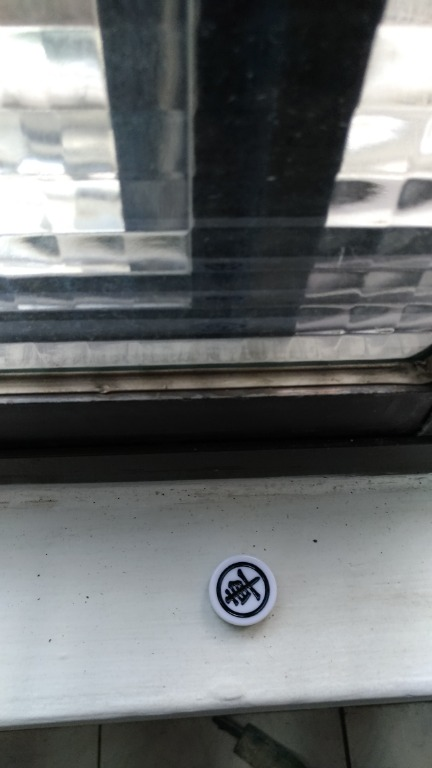b-king: (194, 547, 300, 638)
